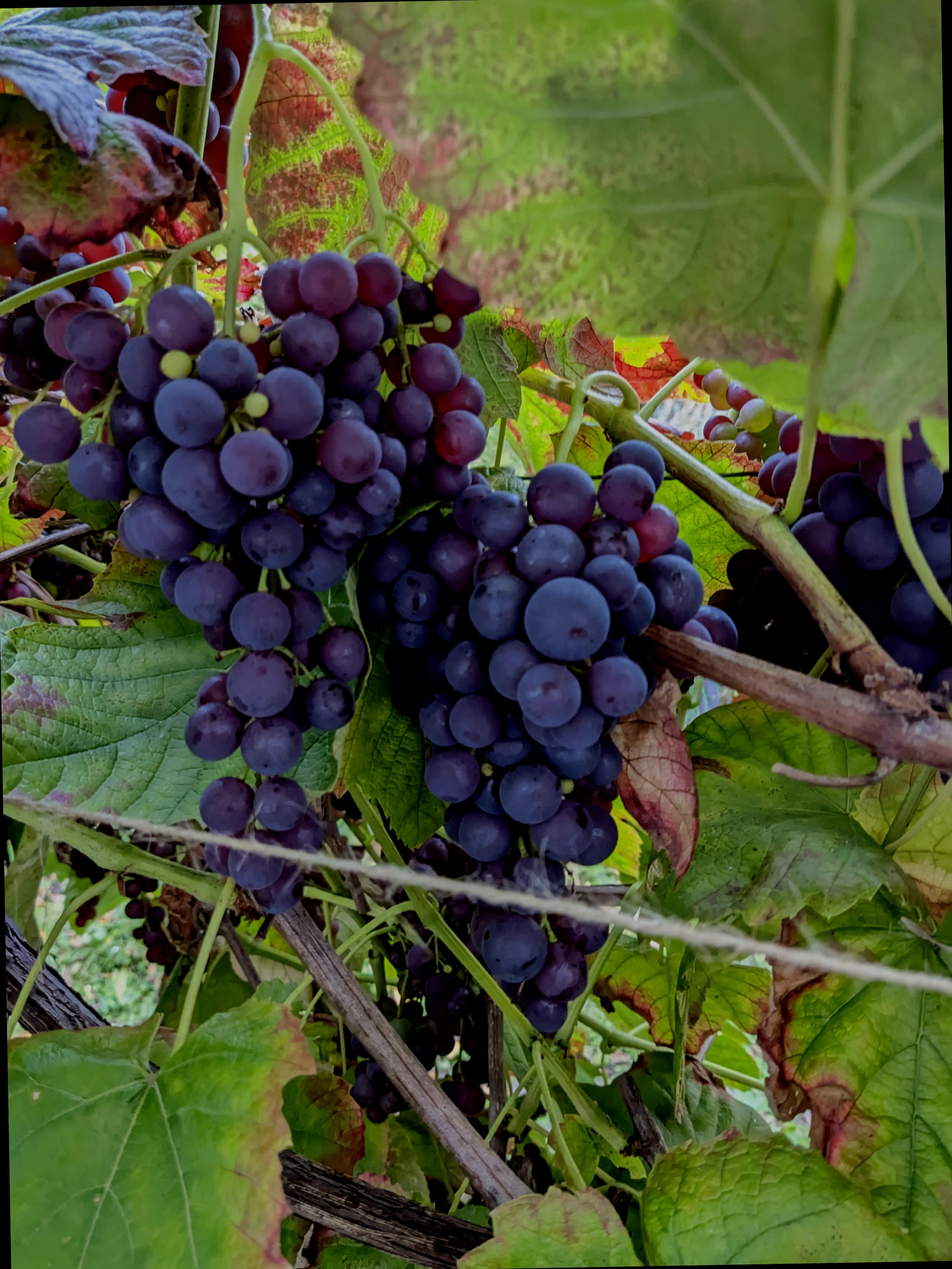Grape Unripe: (1, 256, 487, 927), (345, 446, 734, 1045), (697, 406, 943, 727), (335, 926, 482, 1133), (0, 206, 125, 435), (97, 12, 244, 200), (59, 829, 180, 979), (682, 371, 792, 470)
